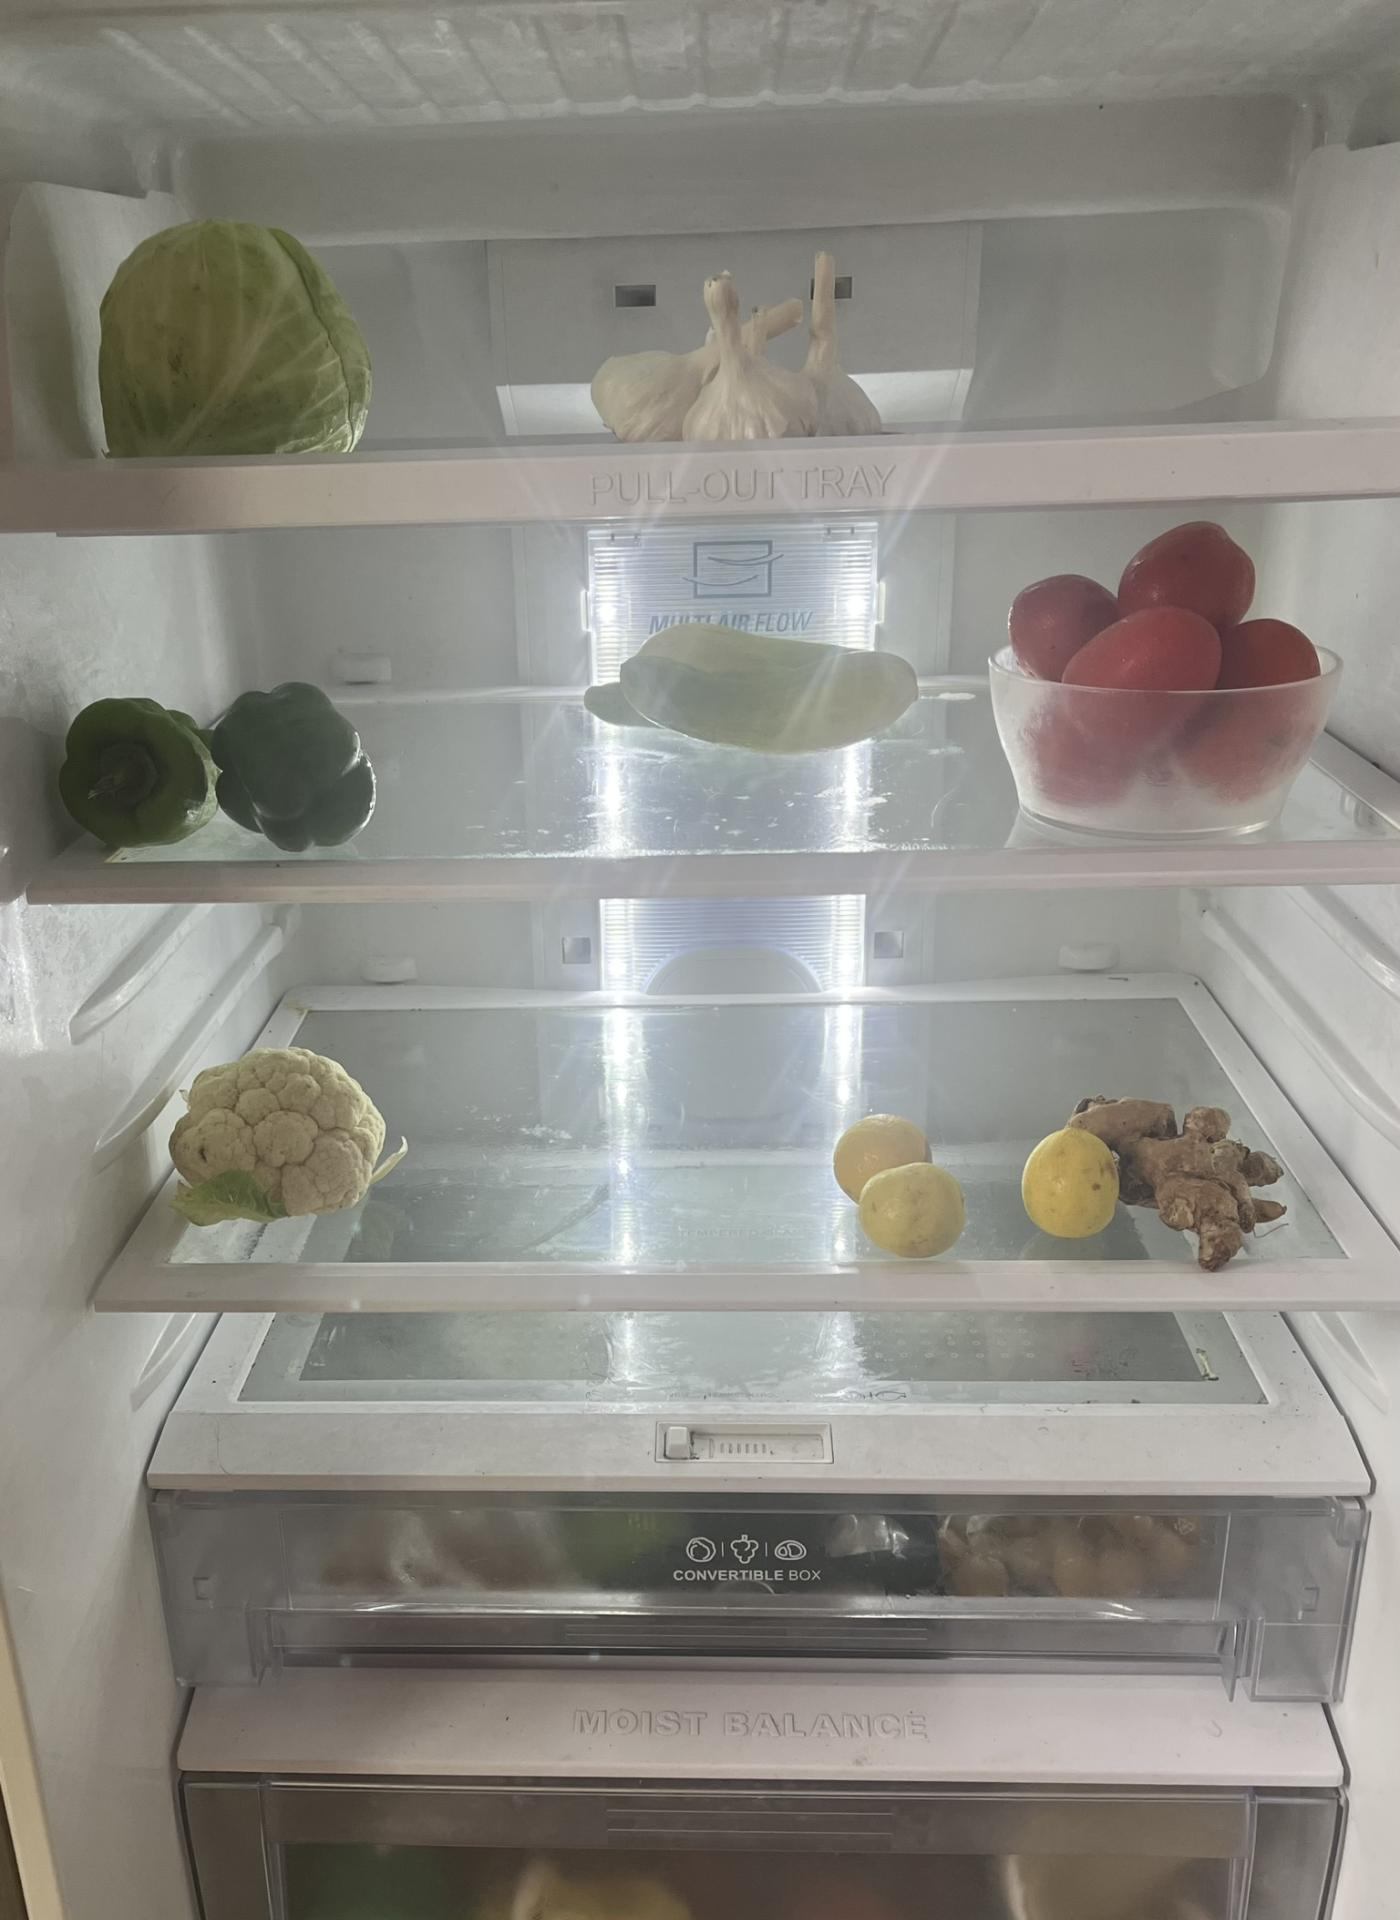cabbage: (92, 218, 370, 453)
capsicum: (55, 690, 379, 847)
cauliflower: (167, 1046, 394, 1219)
cucumber: (581, 613, 923, 754)
garlic: (590, 237, 886, 438)
ginger: (1069, 1093, 1288, 1257)
lemon: (830, 1103, 965, 1252), (1021, 1125, 1123, 1236)
tomato: (1008, 517, 1315, 802)
